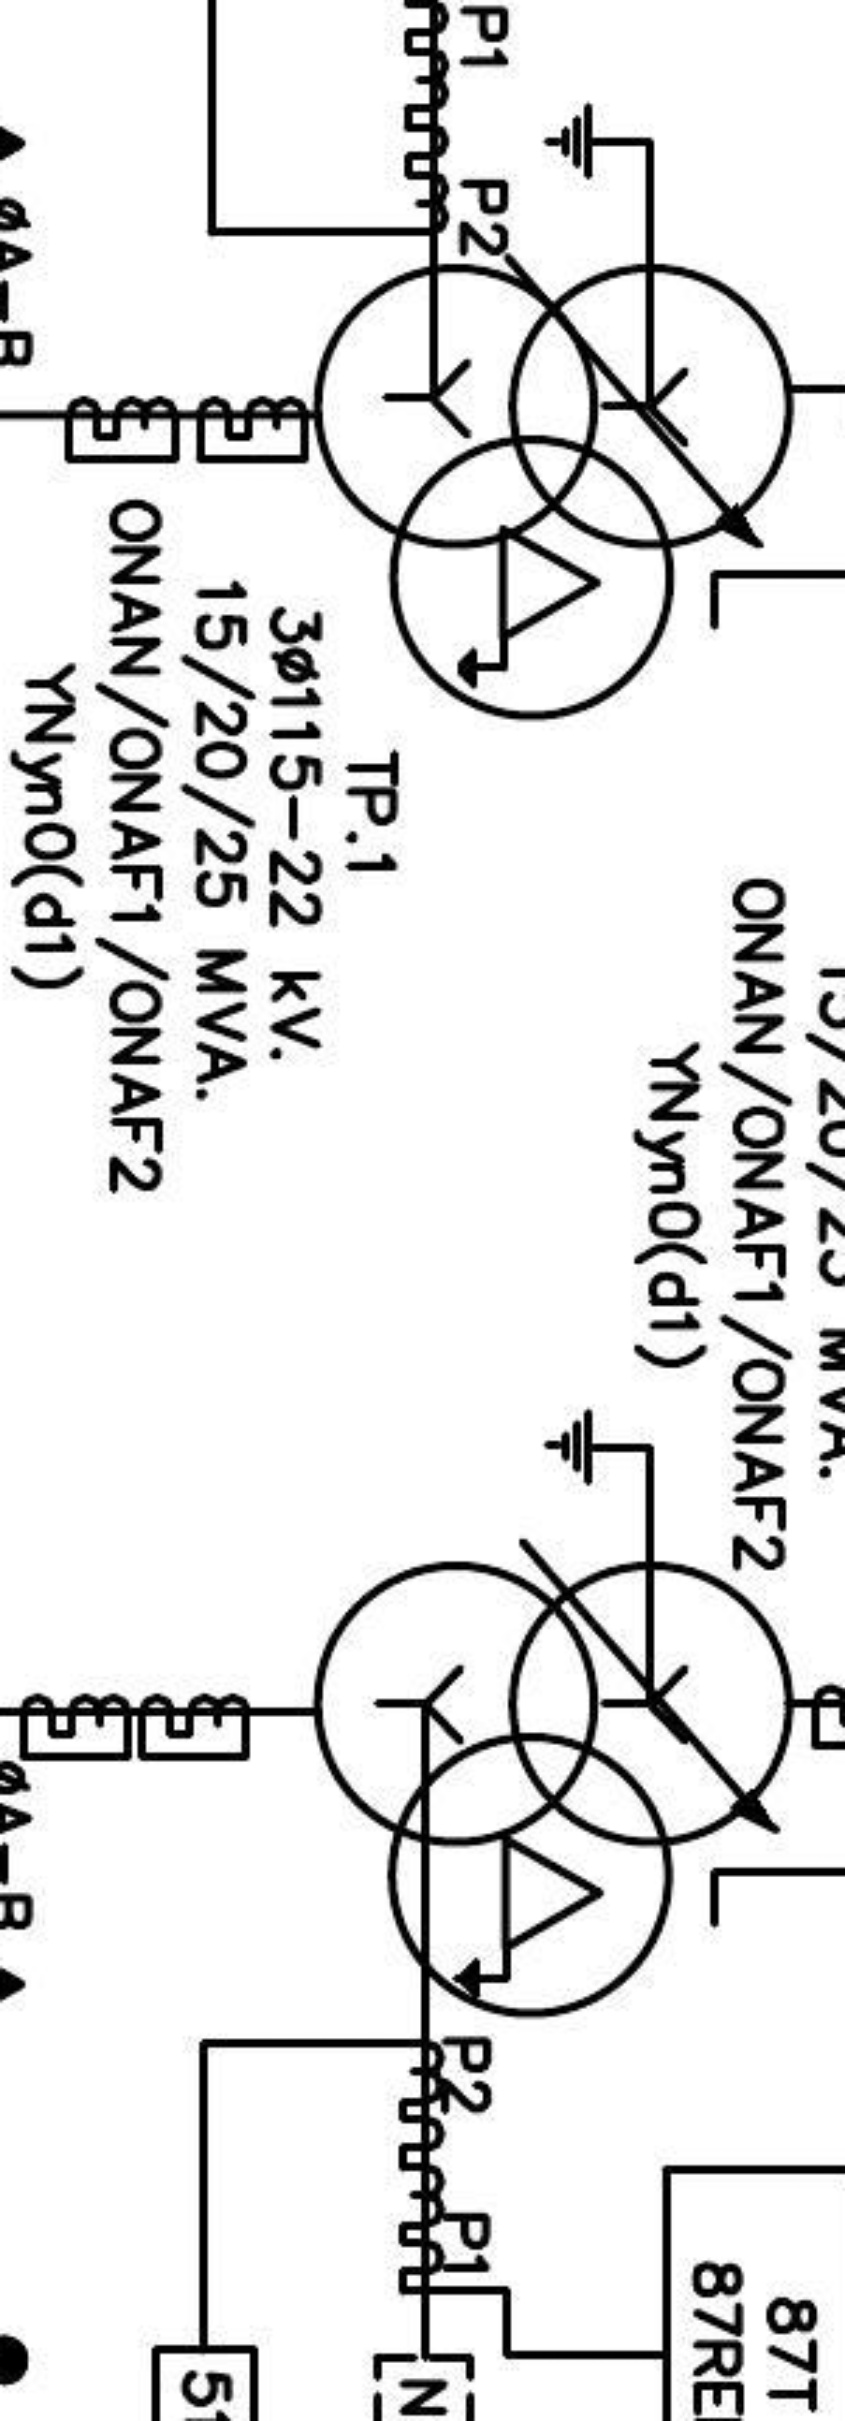11522_tx_ynyn0d1: (311, 261, 797, 724), (311, 1558, 797, 2021)
